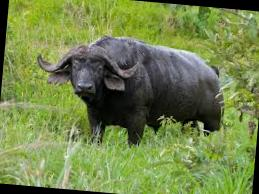Buffalo: (31, 20, 242, 164)
